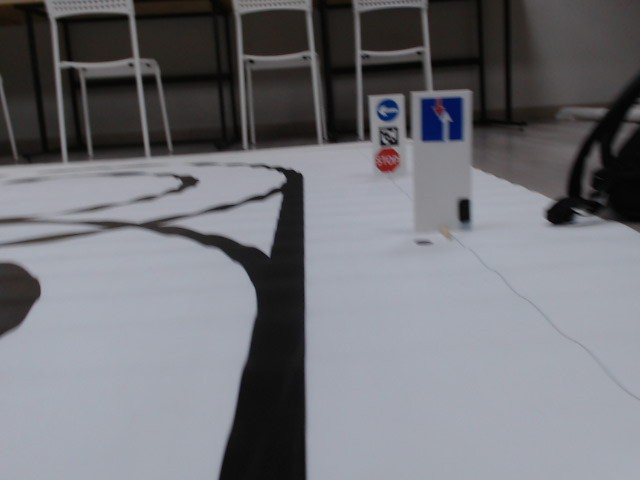Stop: (376, 149, 403, 174)
priority_movement: (416, 95, 466, 144)
